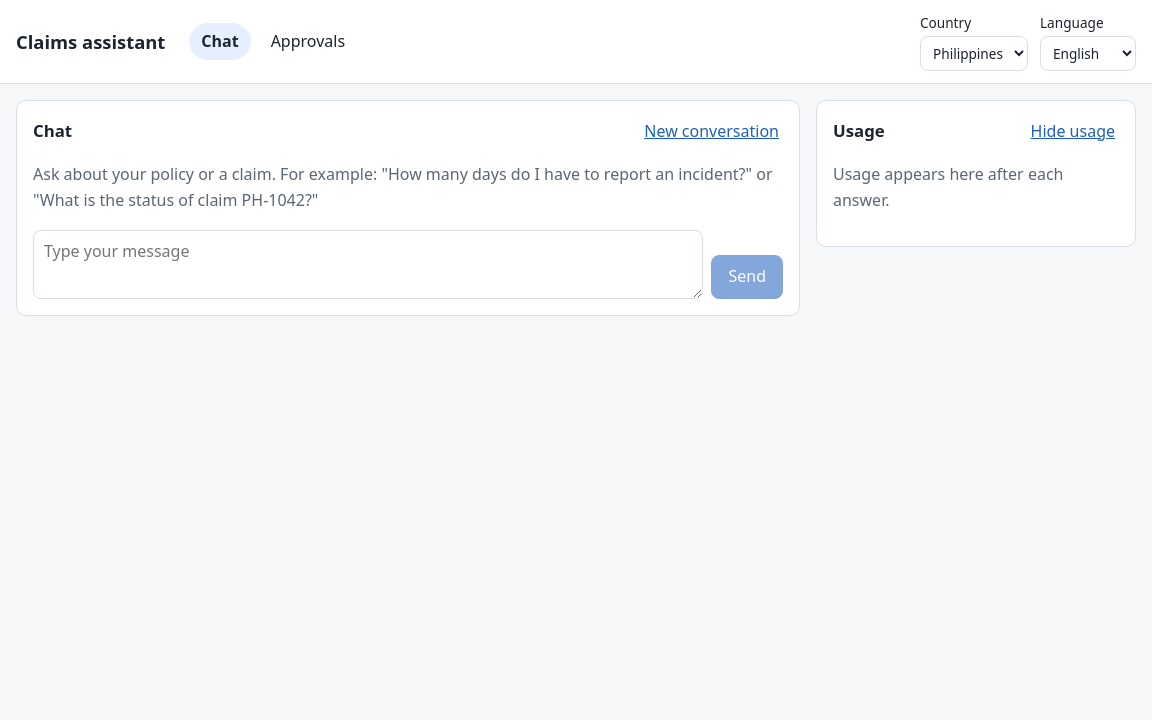
Test: chat › sends the message and shows the answer, a citation link and the AI notice
Type "How many days do I have?" into the text box labelled "Type your message" at (368, 264), box [33,230,704,299]
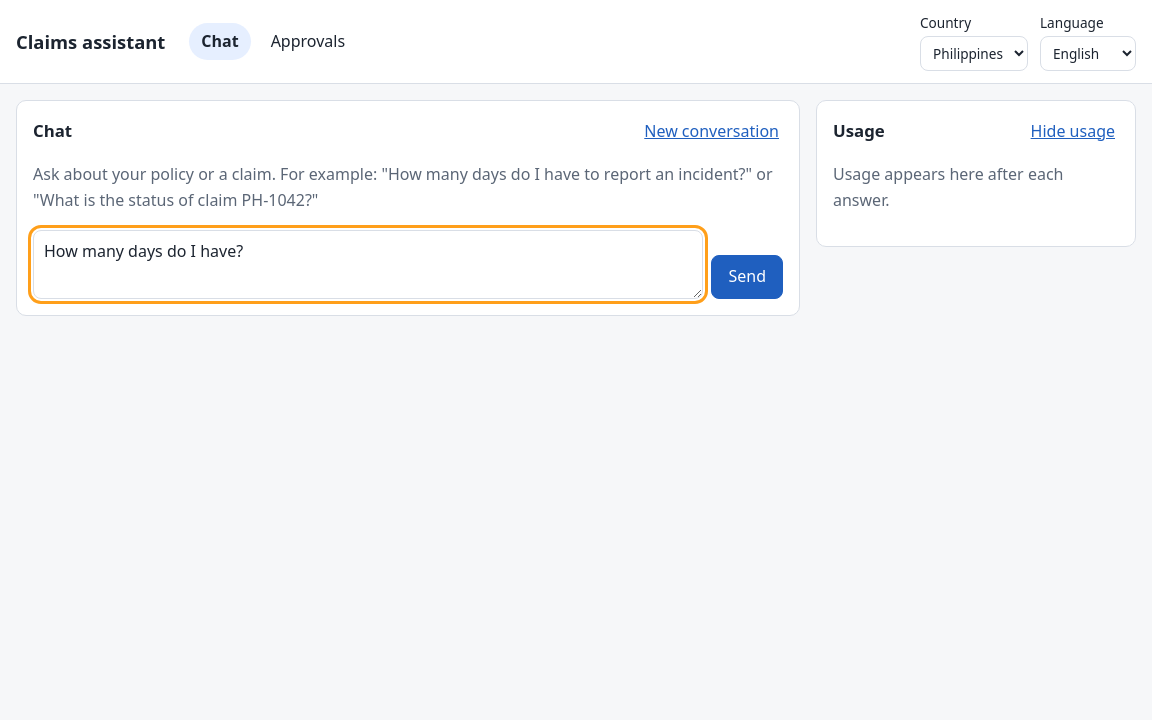
Click the button "Send" at (747, 277), box [712,255,783,299]
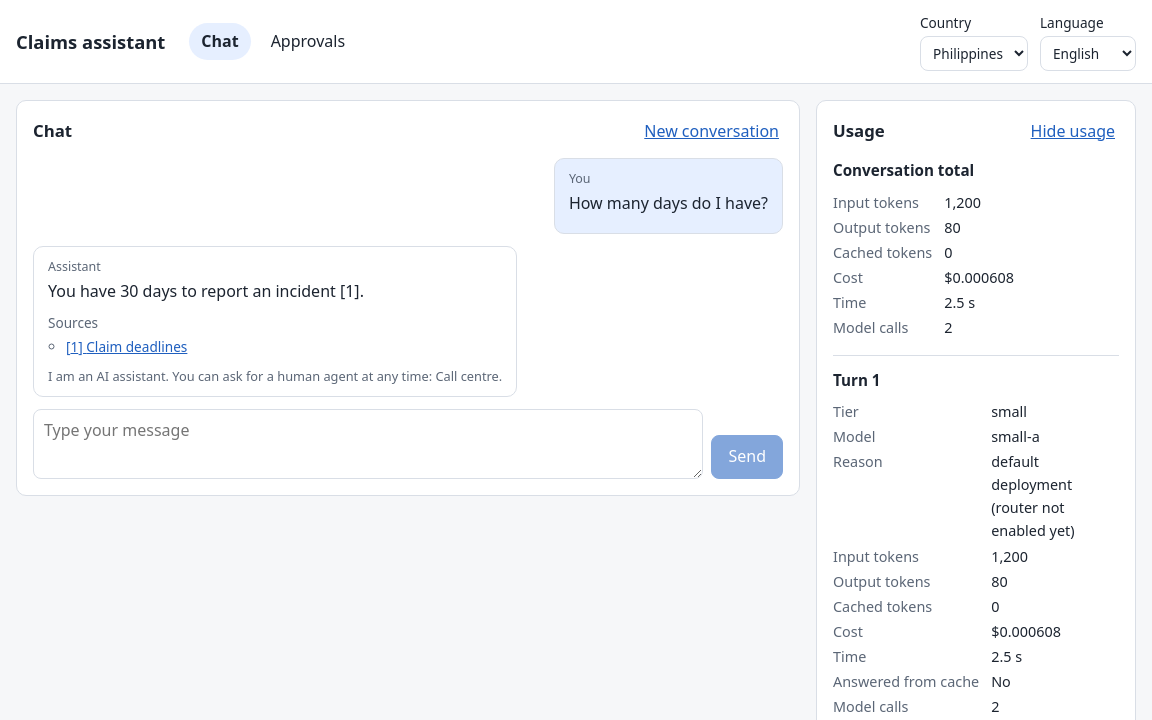
expect the text "You have 30 days to report an incident [1]." is shown: met, box [48,280,364,302]
expect the text "I am an AI assistant" is shown: met, box [48,367,502,385]
expect the text box labelled "Type your message" is empty: met, box [33,409,704,479]
